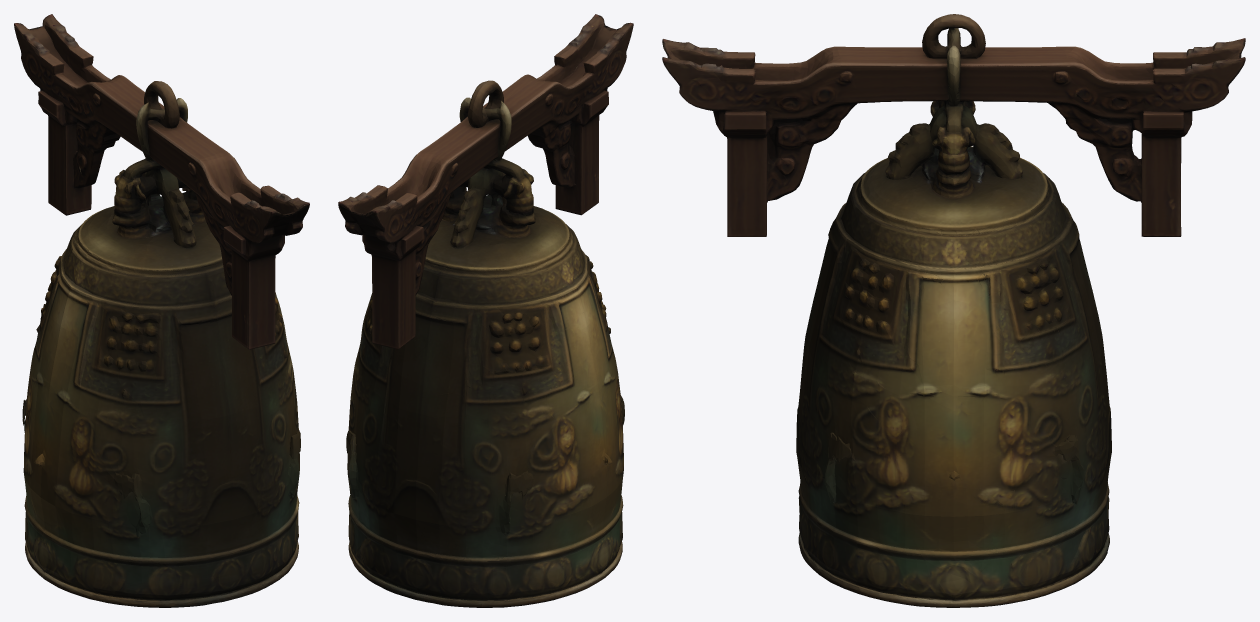
File: emille_bell.glb
3 renders of one model, left to right at view 1: azimuth 30°, elevation 25°; view 2: azimuth 150°, elevation 25°; view 3: azimuth 270°, elevation 25°, orthographic. The views are drawn at different scales.
Visible parts, largest first — view 1: world; view 2: world; view 3: world.
Part boxes in pixels (<box>): world: <box>14,14,309,607</box>; world: <box>338,14,633,607</box>; world: <box>662,14,1245,607</box>.
Bounding box in the file's own units: 0.3969 × 0.7003 × 0.7011.
Materials: 1 (1 with a texture image).
